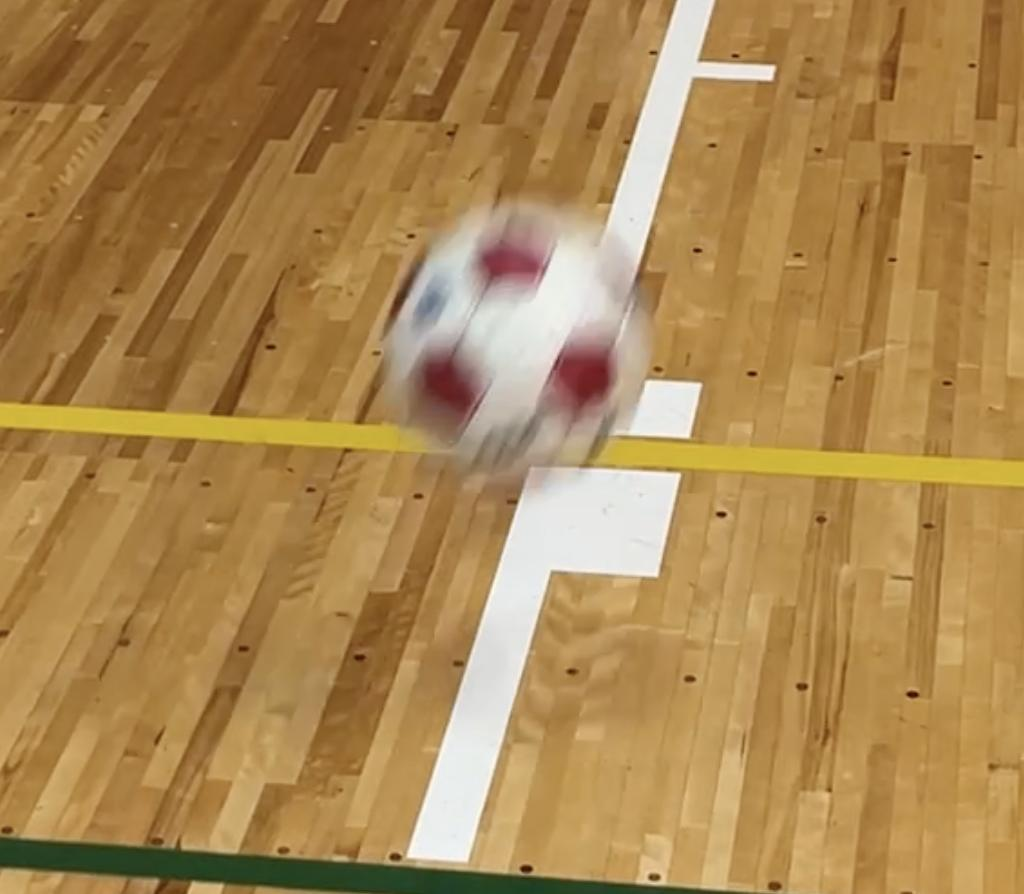Sports-Ball: (394, 204, 646, 463)
